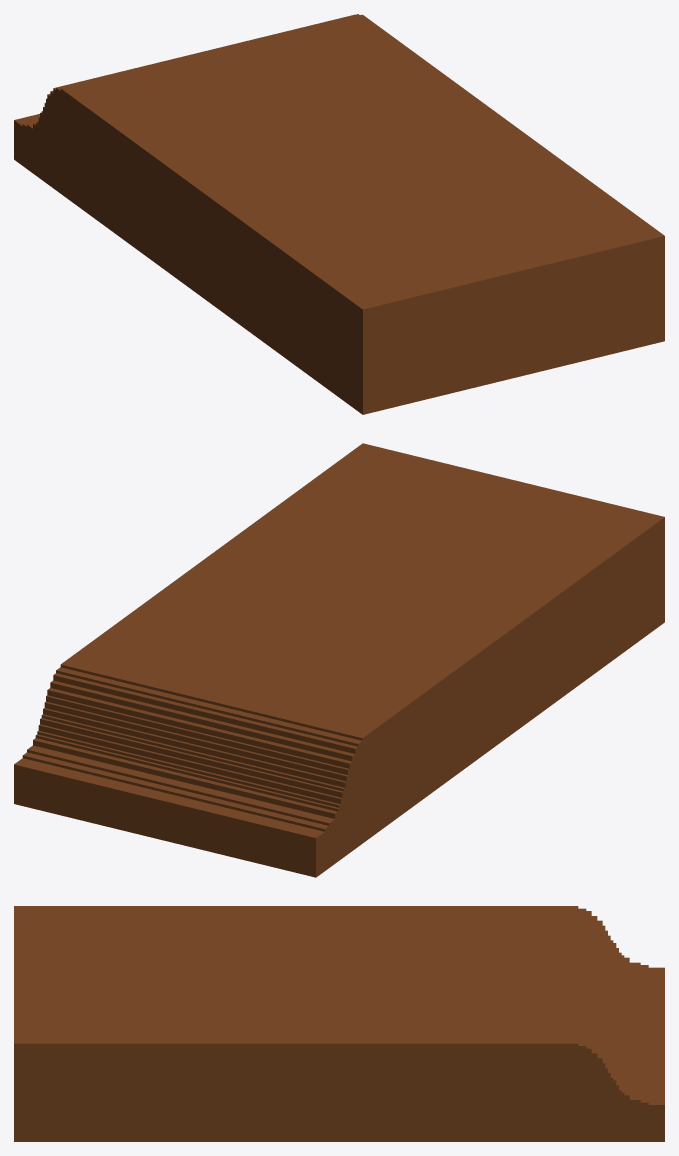
The model's file is Map-1.obj.
3 views of the same model, one above another, from view 1: azimuth 30°, elevation 25°; view 2: azimuth 150°, elevation 25°; view 3: azimuth 270°, elevation 25° (orthographic). The views are drawn at different scales.
Bounding box in the file's own units: 12 × 4 × 24.
1 material, 1 textured.
